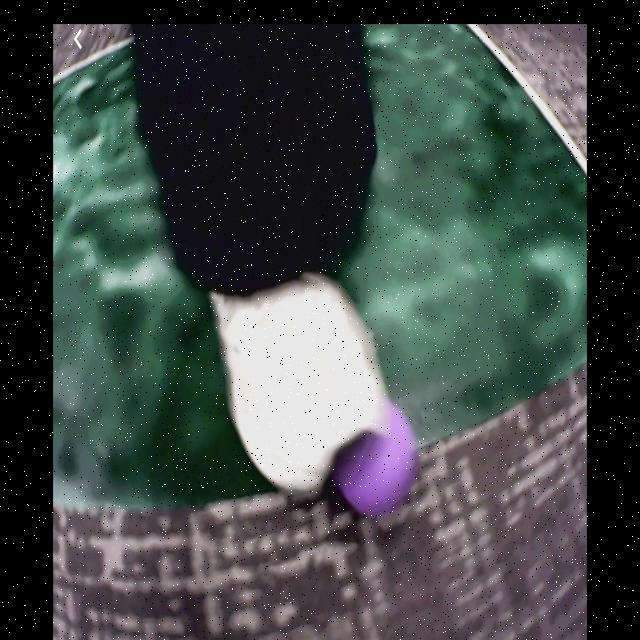ball: (340, 403, 416, 515)
